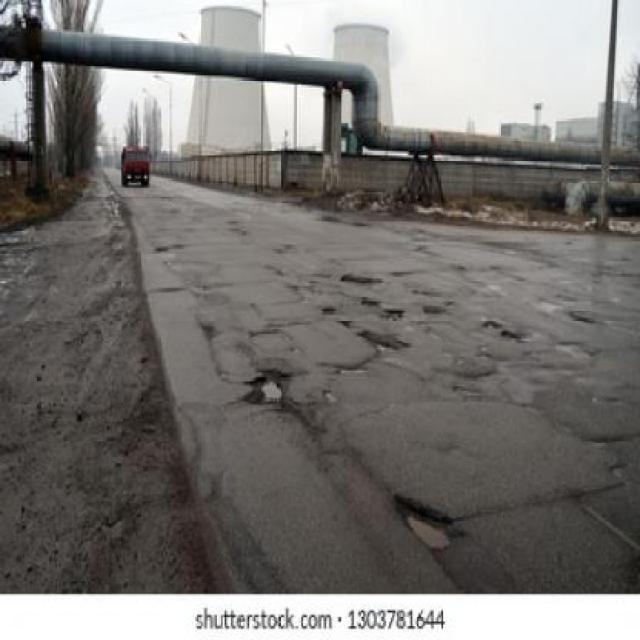pothole: (391, 486, 466, 560), (242, 364, 296, 412), (363, 290, 445, 321), (480, 308, 526, 346), (363, 326, 406, 357), (342, 268, 384, 286)
